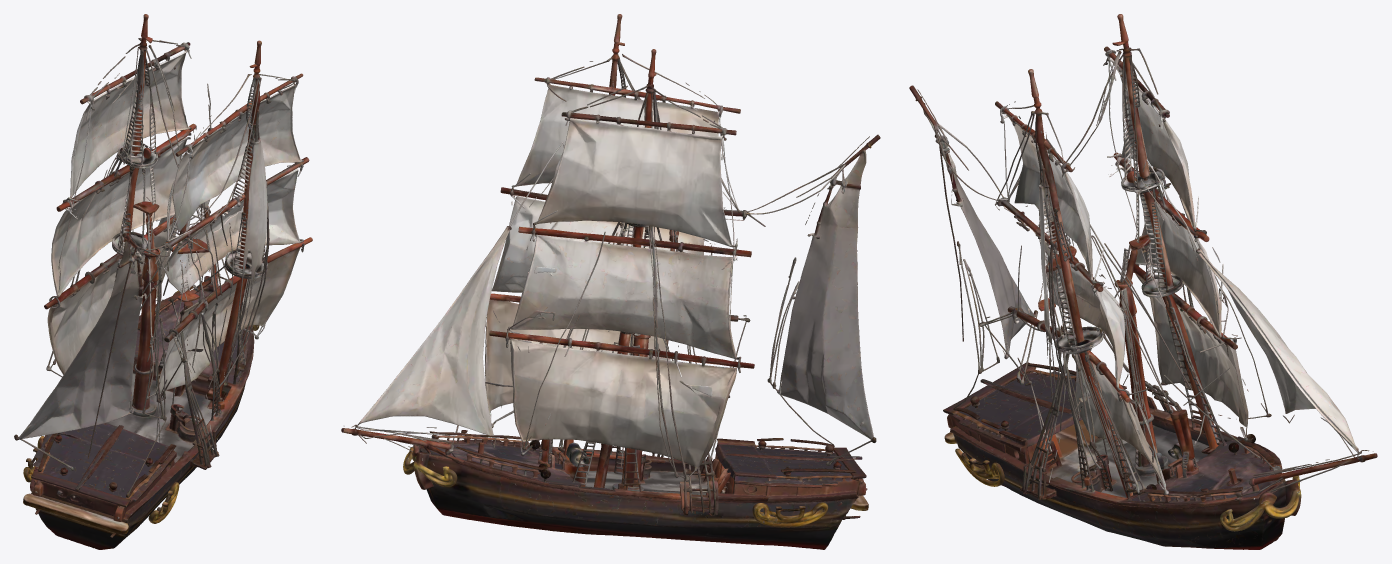
File: boat_gameopt.glb
3 views of the same model, side by side, from view 1: azimuth 30°, elevation 25°; view 2: azimuth 150°, elevation 25°; view 3: azimuth 270°, elevation 25° (orthographic). The views are drawn at different scales.
Size of the model in its own units: 0.7305 by 0.9497 by 0.7747.
Materials: 1 (1 with a texture image).
